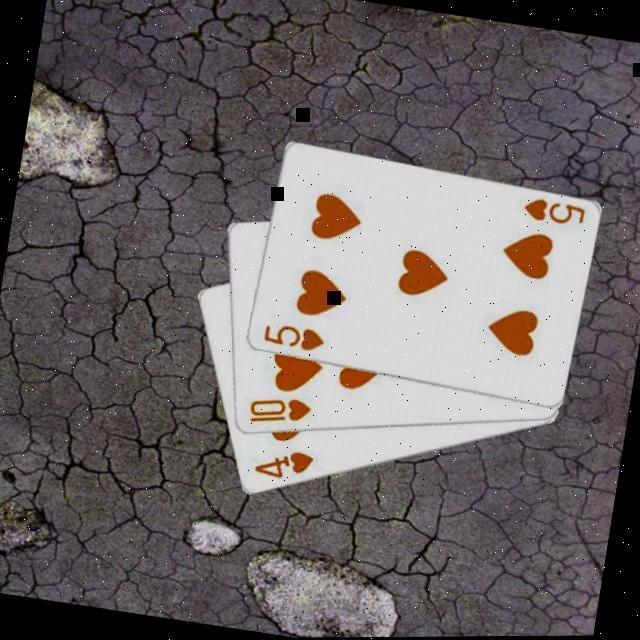10H: (242, 390, 314, 436)
4H: (248, 443, 317, 489)
5H: (517, 195, 588, 233), (258, 320, 327, 358)
